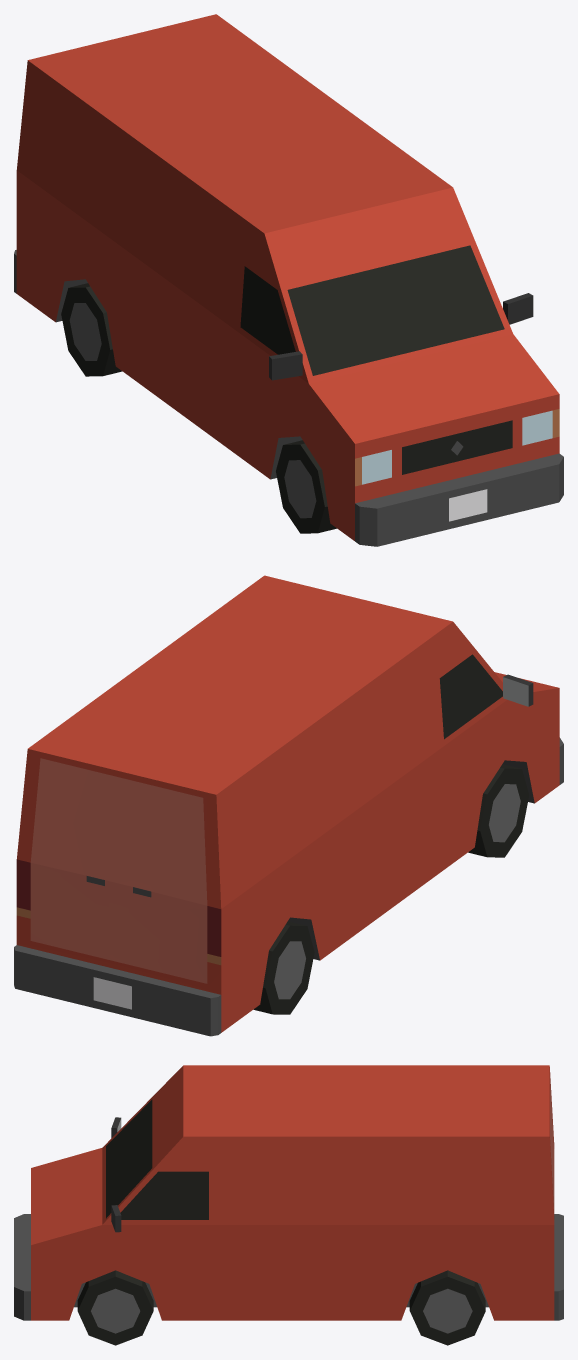
File: Veh_Van_03_Red.glb
3 renders of one model, top to bottom at view 1: azimuth 30°, elevation 25°; view 2: azimuth 150°, elevation 25°; view 3: azimuth 270°, elevation 25°, orthographic. The views are drawn at different scales.
Parts seen in each view (by area): view 1: Van_03_Red, Wheel_FR, Wheel_RR; view 2: Van_03_Red, Wheel_FR, Wheel_RR; view 3: Van_03_Red, Wheel_FL, Wheel_RL.
Boxes of the visible parts, x1,y1,x2,y2 form: Van_03_Red: (14,14,563,546); Wheel_FR: (276,440,336,533); Wheel_RR: (61,283,122,376); Van_03_Red: (14,575,563,1036); Wheel_FR: (468,764,529,857); Wheel_RR: (253,921,314,1014); Van_03_Red: (14,1065,563,1320); Wheel_FL: (77,1270,153,1345); Wheel_RL: (409,1270,485,1345).
Size of the model in its own units: 1.41 by 1.37 by 3.31.
Materials: 1 (1 with a texture image).
